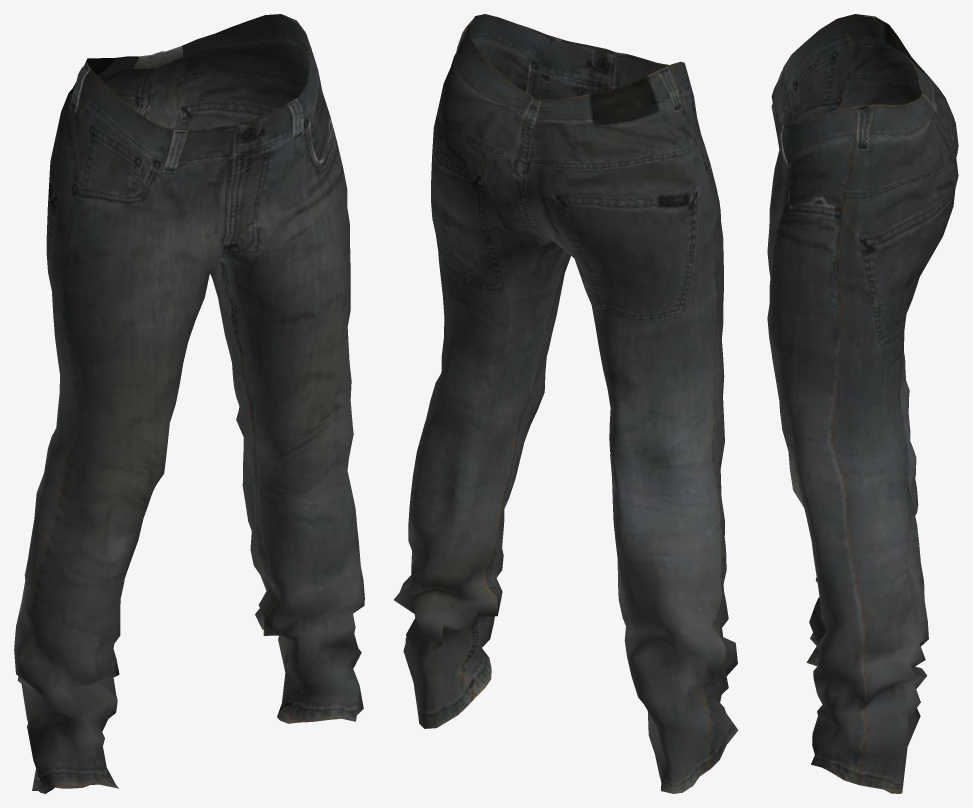
The model's file is mindfront-male-trousers-1.glb.
The picture shows the model from 3 angles, left to right: view 1: azimuth 30°, elevation 25°; view 2: azimuth 150°, elevation 25°; view 3: azimuth 270°, elevation 25°; orthographic projection. The views are drawn at different scales.
Parts seen in each view (by area): view 1: Human.mindfront_male_trousers_1; view 2: Human.mindfront_male_trousers_1; view 3: Human.mindfront_male_trousers_1.
Part boxes in pixels (<box>): Human.mindfront_male_trousers_1: <box>14,14,364,793</box>; Human.mindfront_male_trousers_1: <box>394,14,738,793</box>; Human.mindfront_male_trousers_1: <box>767,14,958,793</box>.
Size of the model in its own units: 0.4508 by 0.9445 by 0.241.
1 material, 1 textured.
